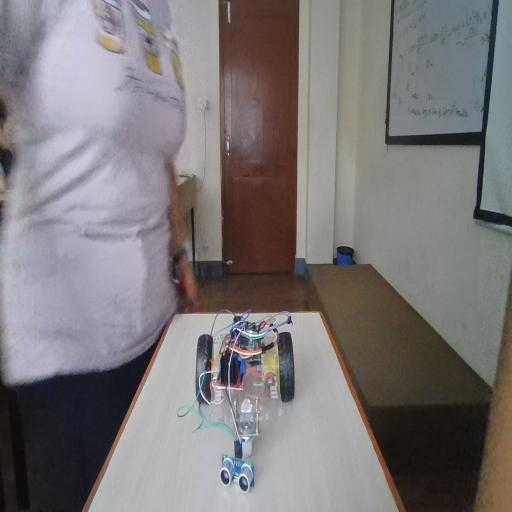car: (193, 304, 296, 512)
